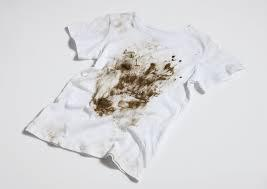earth: (112, 63, 159, 96), (161, 56, 177, 80), (120, 98, 147, 109), (94, 99, 113, 113)
